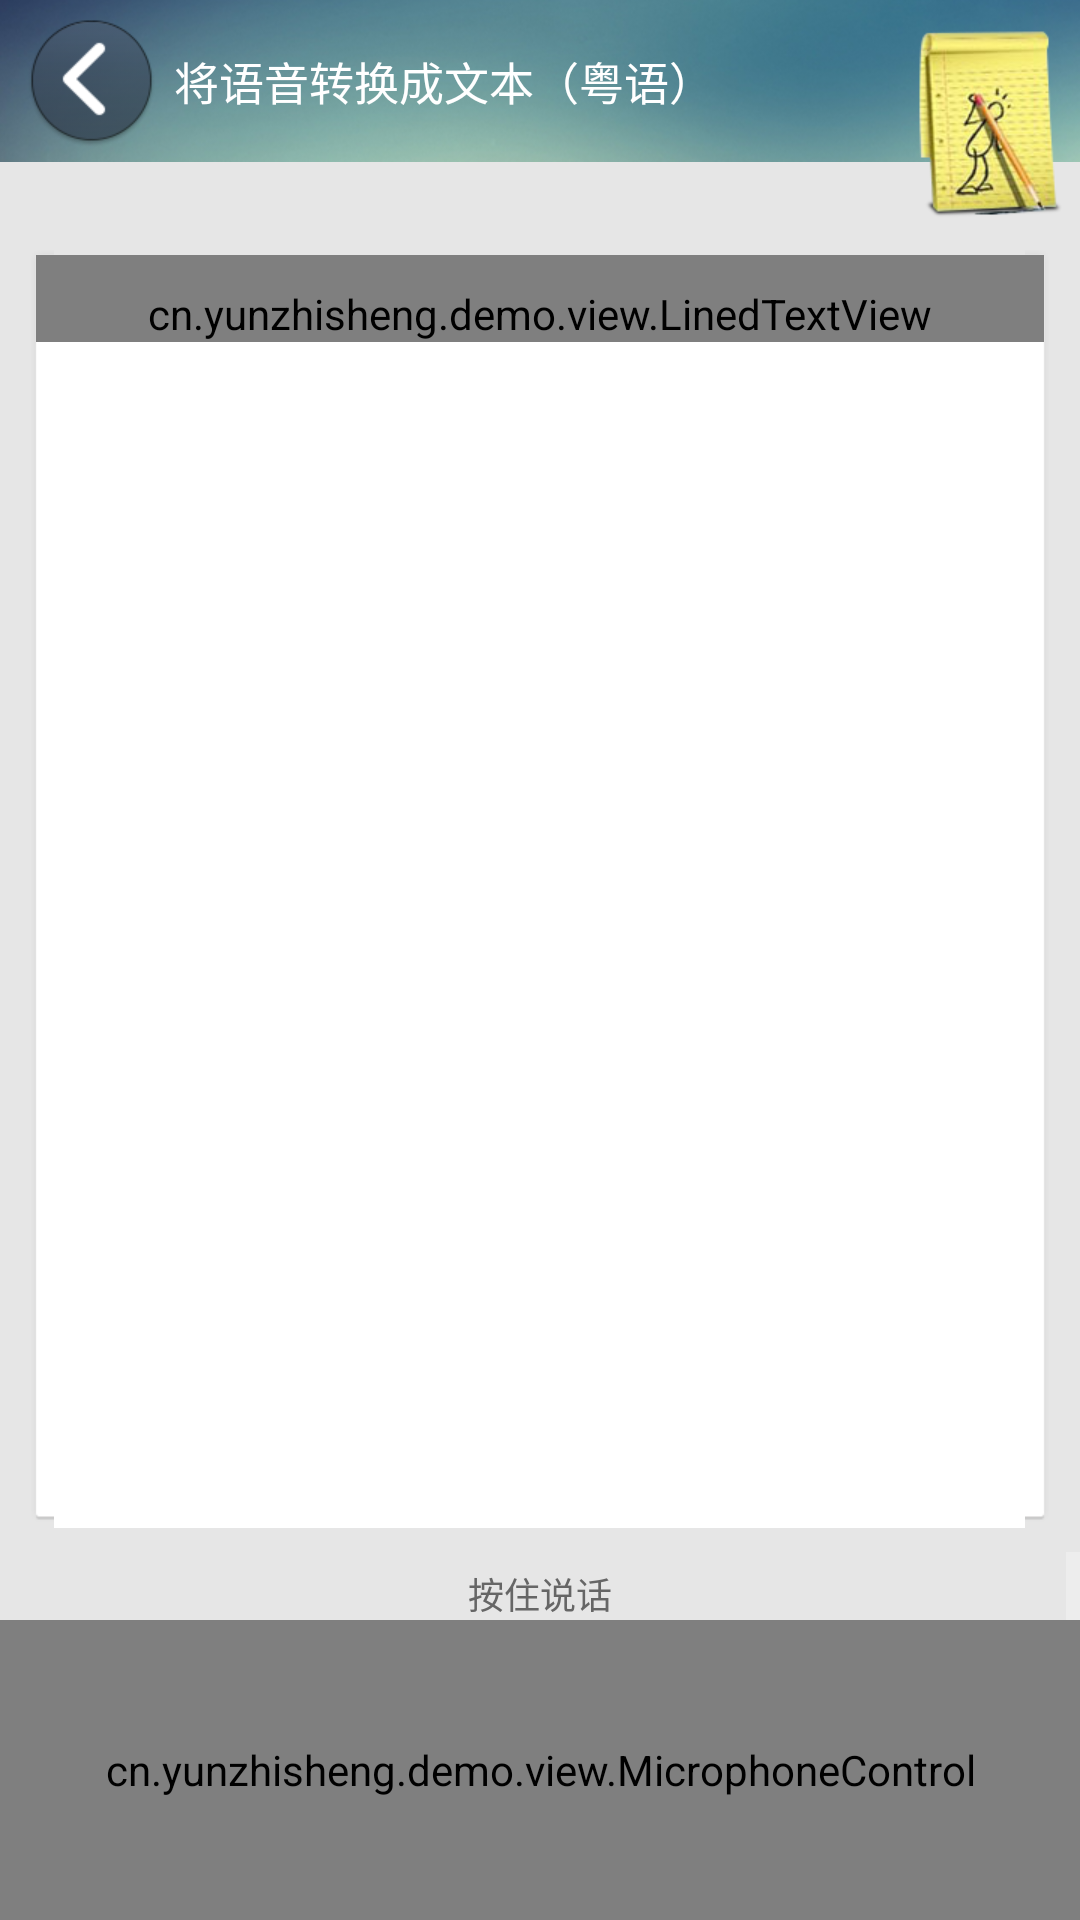

Icon click points for this 1080*1920 phone screenshot, format [x,y]:
back: [91,80]
